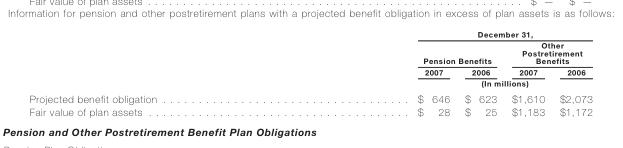table: (28, 28, 591, 116)
table column: (28, 28, 286, 116), (286, 28, 456, 116), (503, 28, 551, 116), (456, 28, 503, 116), (551, 28, 591, 116)
table column header: (28, 28, 591, 90)
table row: (28, 39, 591, 65), (28, 90, 591, 104), (28, 77, 591, 90), (28, 65, 591, 77), (28, 104, 591, 116), (28, 28, 591, 39)
table spanning cell: (286, 39, 503, 65), (286, 65, 456, 90), (286, 28, 591, 39), (503, 39, 591, 65), (456, 77, 551, 90), (551, 65, 591, 90)
